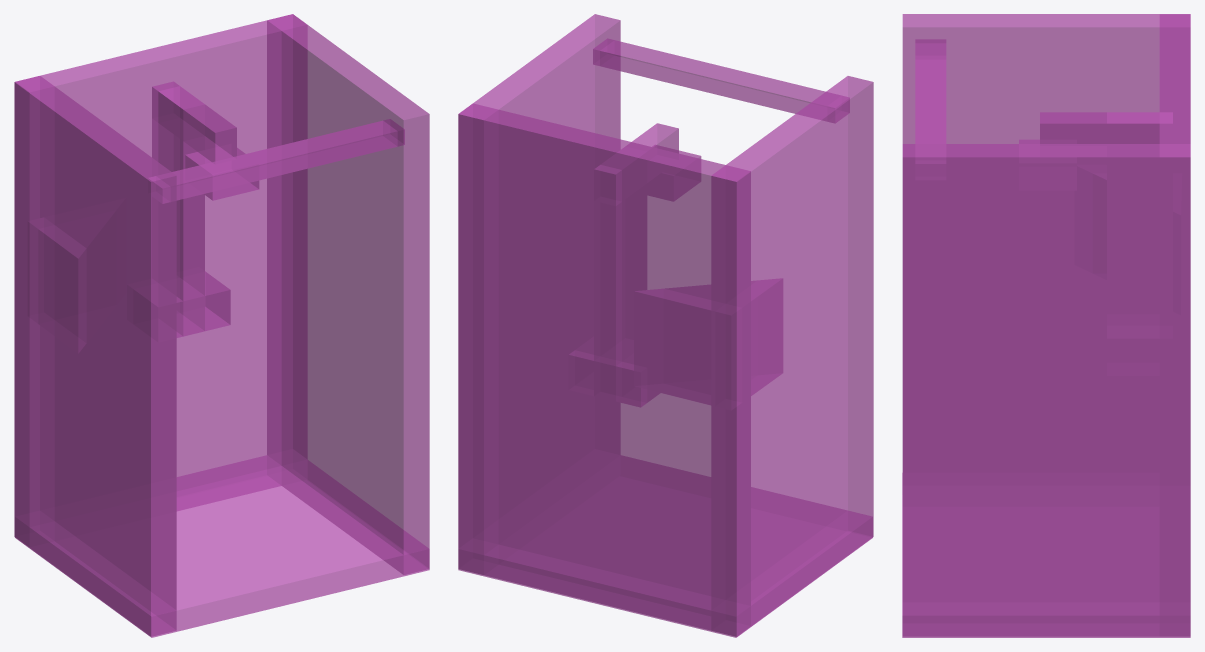
Rendered from SM_Prop_Shower_01_Collision.fbx.
3 renders of one model, left to right at view 1: azimuth 30°, elevation 25°; view 2: azimuth 150°, elevation 25°; view 3: azimuth 270°, elevation 25°, orthographic. The views are drawn at different scales.
Visible parts, largest first — view 1: SM_Prop_Shower_01_Collision; view 2: SM_Prop_Shower_01_Collision; view 3: SM_Prop_Shower_01_Collision.
Boxes of the visible parts, box(x1,y1,x2,y2) form: SM_Prop_Shower_01_Collision: box(14, 14, 429, 637); SM_Prop_Shower_01_Collision: box(458, 14, 873, 637); SM_Prop_Shower_01_Collision: box(902, 14, 1190, 637).
Bounding box in the file's own units: 165 × 258 × 140.
